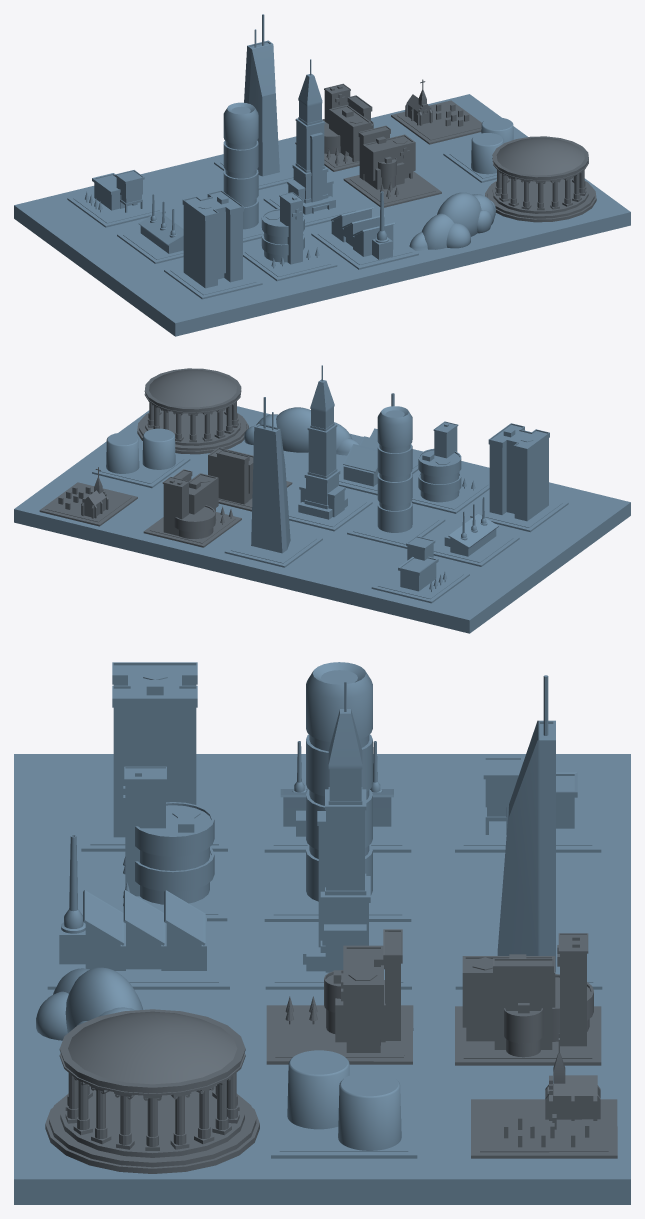
File: City_Props.fbx
3 renders of one model, top to bottom at view 1: azimuth 30°, elevation 25°; view 2: azimuth 150°, elevation 25°; view 3: azimuth 270°, elevation 25°, orthographic. The views are drawn at different scales.
Parts seen in each view (by area): view 1: City_Prop_Base, City_Prop13, City_Prop1, City_Prop7, City_Prop9, City_Prop8, City_Prop4, City_Prop5, City_Prop6, City_Prop10, City_Prop_Cloud, City_Prop3 (+3 smaller); view 2: City_Prop_Base, City_Prop13, City_Prop1, City_Prop8, City_Prop5, City_Prop7, City_Prop10, City_Prop4, City_Prop12, City_Prop3, City_Prop2, City_Prop11 (+3 smaller); view 3: City_Prop_Base, City_Prop13, City_Prop10, City_Prop7, City_Prop6, City_Prop1, City_Prop8, City_Prop5, City_Prop4, City_Prop12, City_Prop9, City_Prop11 (+3 smaller).
Part boxes in pixels (box(x1,y1,x2,y2)): City_Prop_Base: box(14, 94, 630, 336); City_Prop13: box(485, 136, 596, 222); City_Prop1: box(164, 190, 262, 299); City_Prop7: box(263, 59, 359, 227); City_Prop9: box(343, 125, 441, 207); City_Prop8: box(214, 14, 295, 189); City_Prop4: box(243, 192, 337, 281); City_Prop5: box(223, 102, 265, 242); City_Prop6: box(311, 191, 418, 269); City_Prop10: box(295, 83, 373, 171); City_Prop_Cloud: box(409, 192, 495, 250); City_Prop3: box(67, 170, 165, 227); City_Prop_Base: box(14, 406, 630, 633); City_Prop13: box(137, 368, 248, 454); City_Prop1: box(470, 423, 568, 532); City_Prop8: box(224, 397, 322, 567); City_Prop5: box(347, 406, 445, 548); City_Prop7: box(288, 365, 372, 531); City_Prop10: box(143, 469, 241, 547); City_Prop4: box(411, 421, 489, 513); City_Prop12: box(92, 428, 190, 488); City_Prop3: box(371, 536, 469, 603); City_Prop2: box(433, 497, 519, 566); City_Prop11: box(39, 467, 137, 526); City_Prop_Base: box(14, 754, 630, 1204); City_Prop13: box(45, 1009, 259, 1173); City_Prop10: box(455, 933, 601, 1065); City_Prop7: box(265, 681, 411, 989); City_Prop6: box(47, 834, 229, 989); City_Prop1: box(81, 662, 227, 851); City_Prop8: box(455, 675, 602, 989); City_Prop5: box(264, 662, 411, 921); City_Prop4: box(80, 766, 227, 921); City_Prop12: box(271, 1050, 417, 1158); City_Prop9: box(266, 929, 413, 1064); City_Prop11: box(471, 1033, 617, 1158).
Size of the model in its own units: 677 by 234 by 415.
